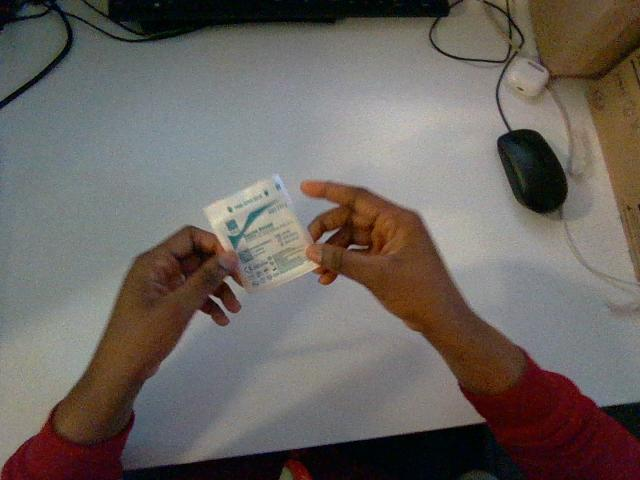gauze: (204, 175, 316, 291)
